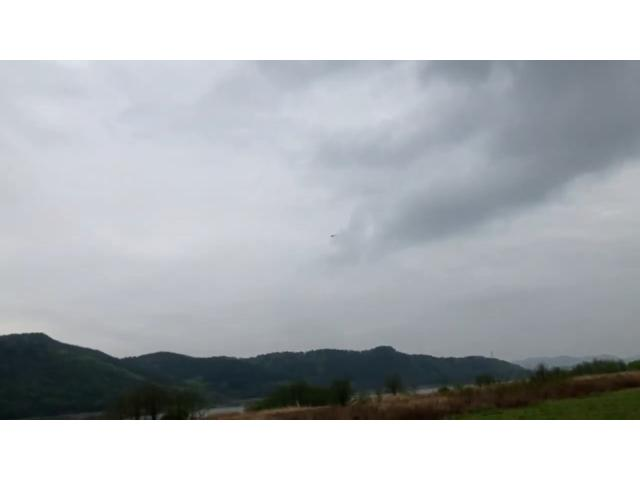Anti-Drone: (324, 229, 348, 241)
